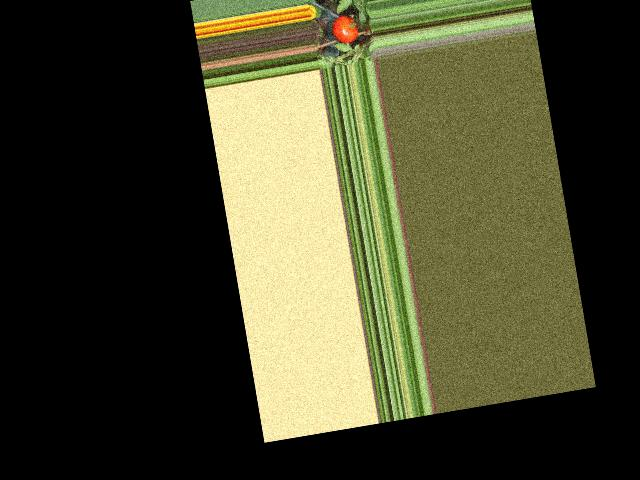tomato: (330, 13, 359, 46)
